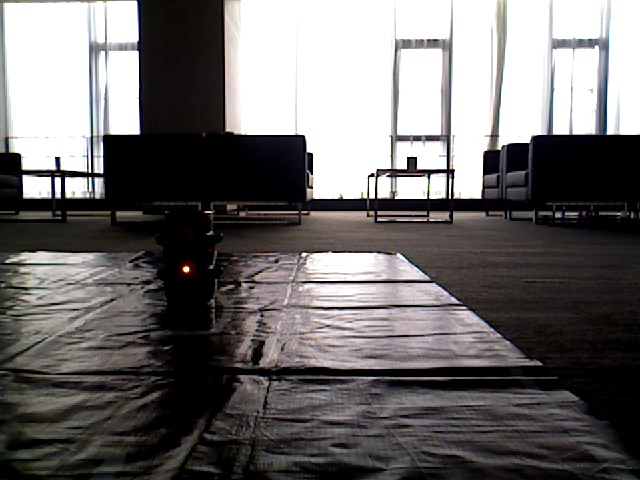yellow: (172, 215, 209, 302)
